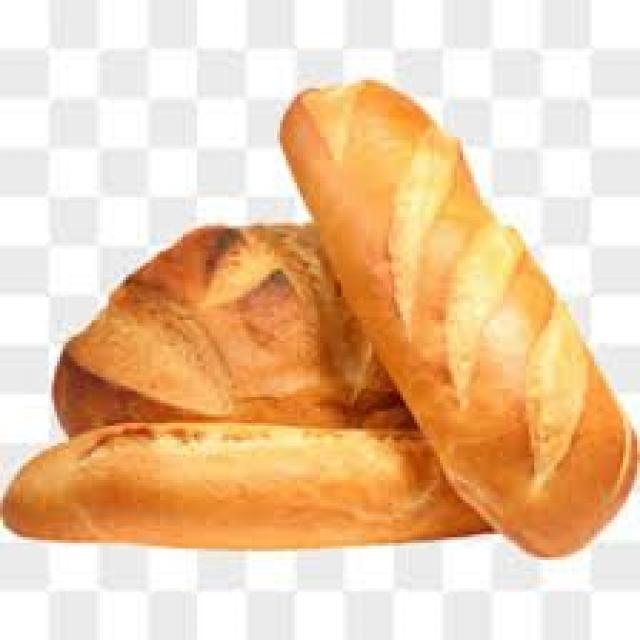organic waste: (277, 77, 637, 557), (49, 220, 417, 446), (0, 420, 500, 549)
